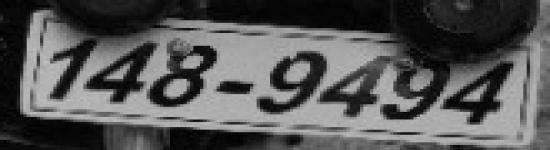-: (206, 75, 262, 104)
1: (40, 30, 112, 105)
4: (300, 43, 406, 126), (419, 52, 523, 130), (67, 35, 166, 107)
8: (139, 34, 229, 113)
9: (364, 48, 475, 131), (248, 38, 346, 120)
